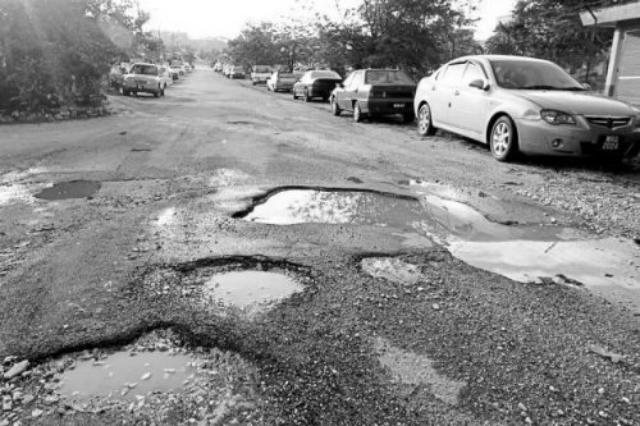Pothole: (428, 202, 640, 318), (17, 323, 267, 403), (228, 182, 514, 236), (164, 250, 320, 310), (354, 250, 428, 296), (30, 176, 104, 204)
